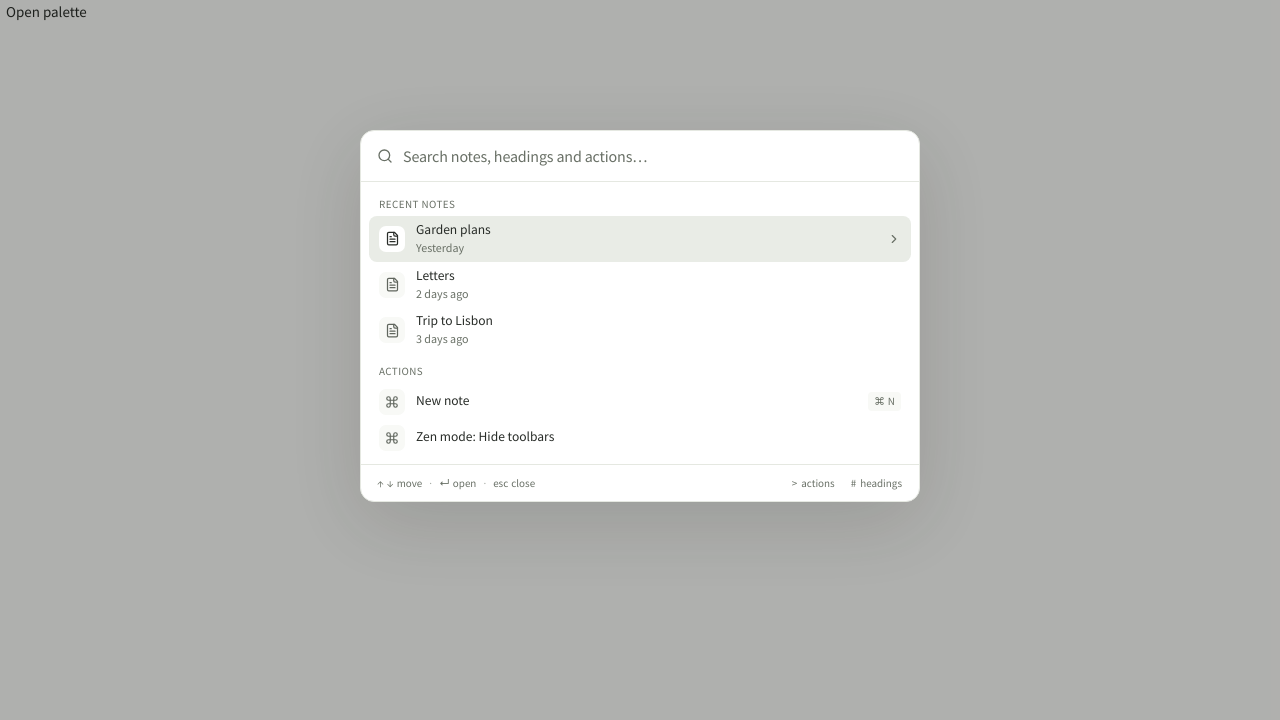
command palette › opens the highlighted note with Enter after closing
In the dropdown labelled "Search notes, headings and actions…": (653, 156) [403, 131, 903, 181], type "lisb"
Then press Enter
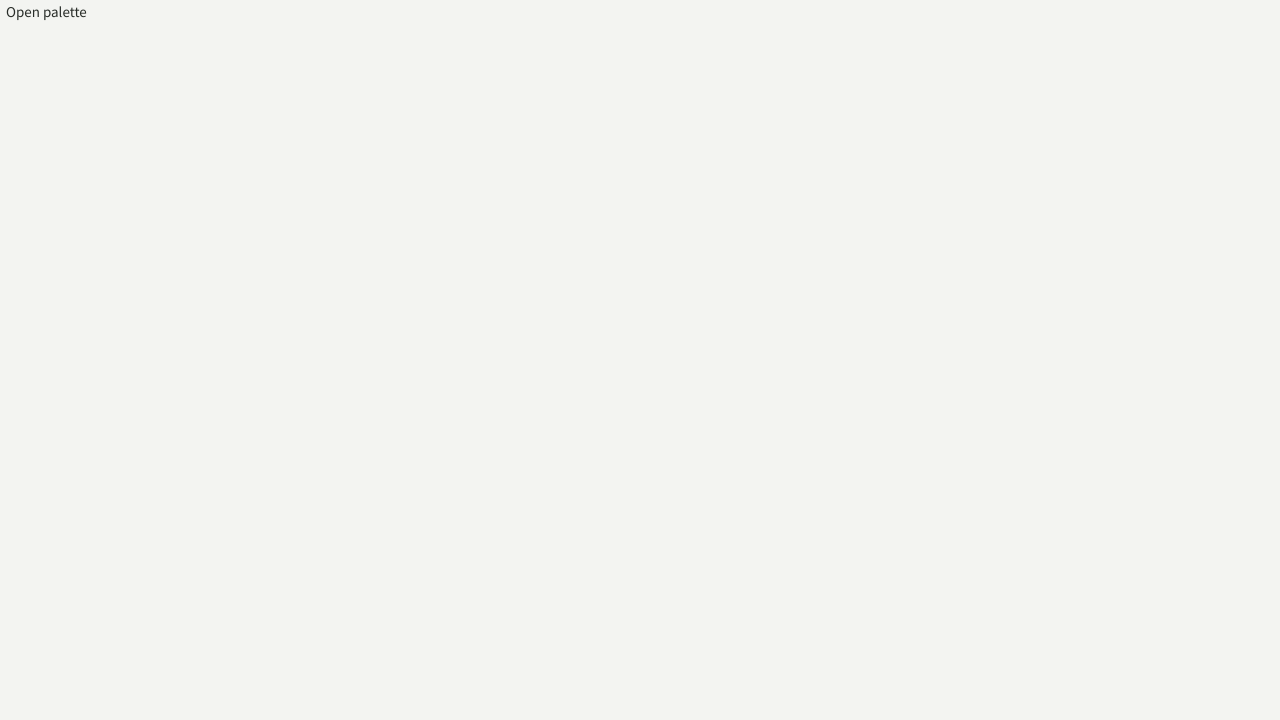
Check: the dialog is gone
